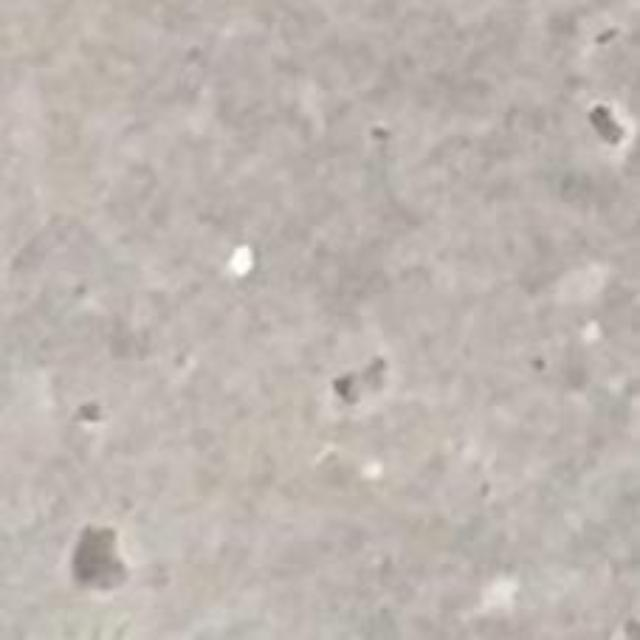peeling plaster: (71, 525, 126, 589)
